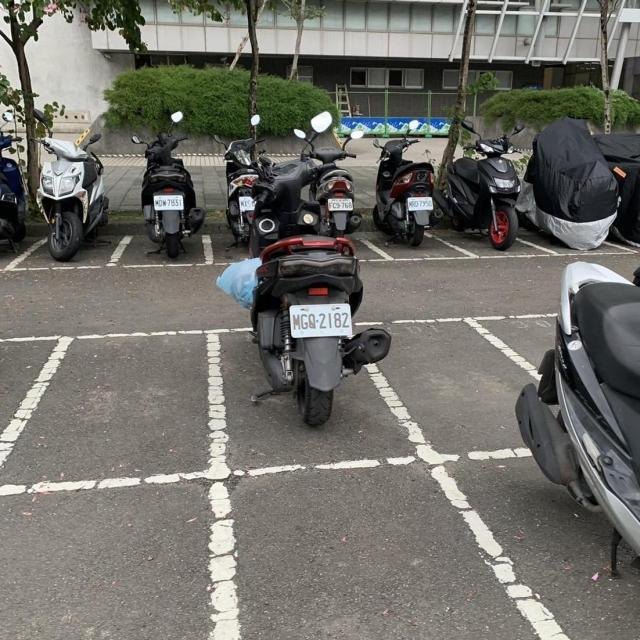W: (284, 302, 356, 339), (320, 195, 358, 216), (150, 192, 187, 212), (234, 194, 263, 216), (404, 195, 436, 212)
